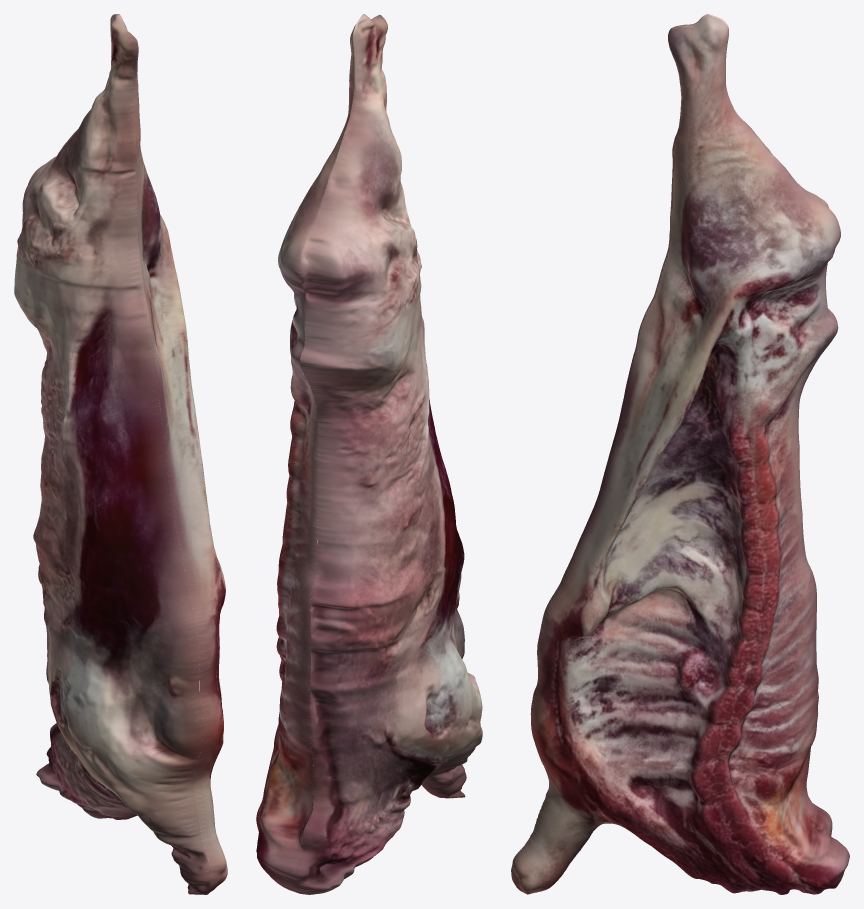
File: demi_carcasse_boeuf_v3.glb
3 views of the same model, side by side, from view 1: azimuth 30°, elevation 25°; view 2: azimuth 150°, elevation 25°; view 3: azimuth 270°, elevation 25° (orthographic). The views are drawn at different scales.
Parts seen in each view (by area): view 1: face_exterieure, face_de_fente; view 2: face_exterieure, face_de_fente; view 3: face_de_fente.
Boxes of the visible parts, x1,y1,x2,y2 form: face_exterieure: (14,14,211,894); face_de_fente: (124,22,227,894); face_exterieure: (294,14,482,894); face_de_fente: (256,25,437,893); face_de_fente: (511,14,849,894).
Bounding box in the file's own units: 0.4626 × 2.5 × 0.8757.
2 materials, 2 textured.
